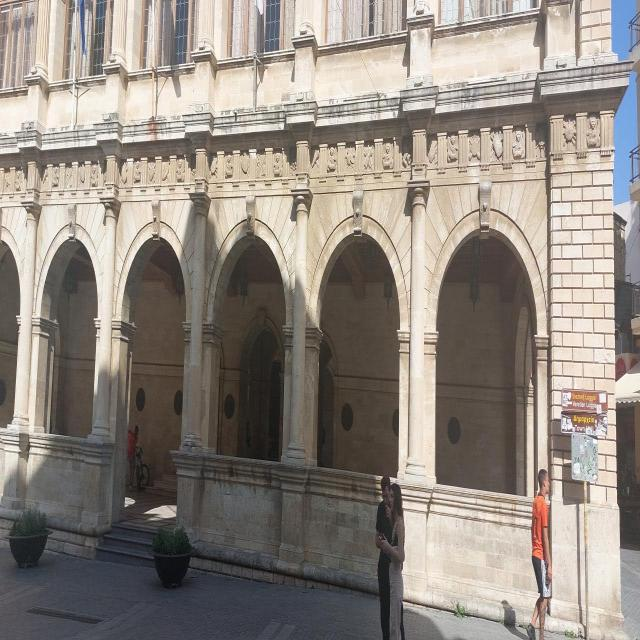Loggia: (1, 1, 633, 640)
